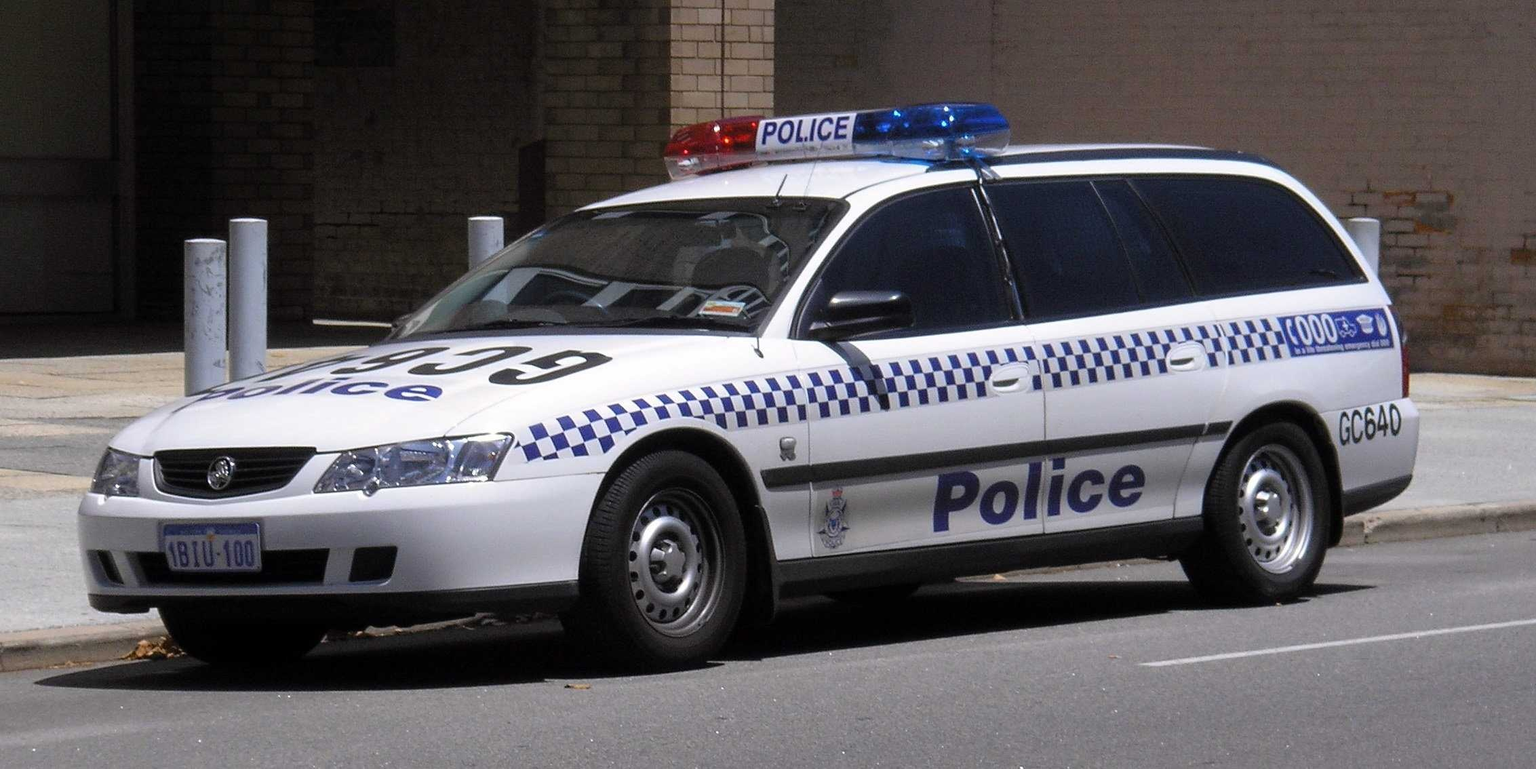Police Car: (59, 95, 1438, 682)
